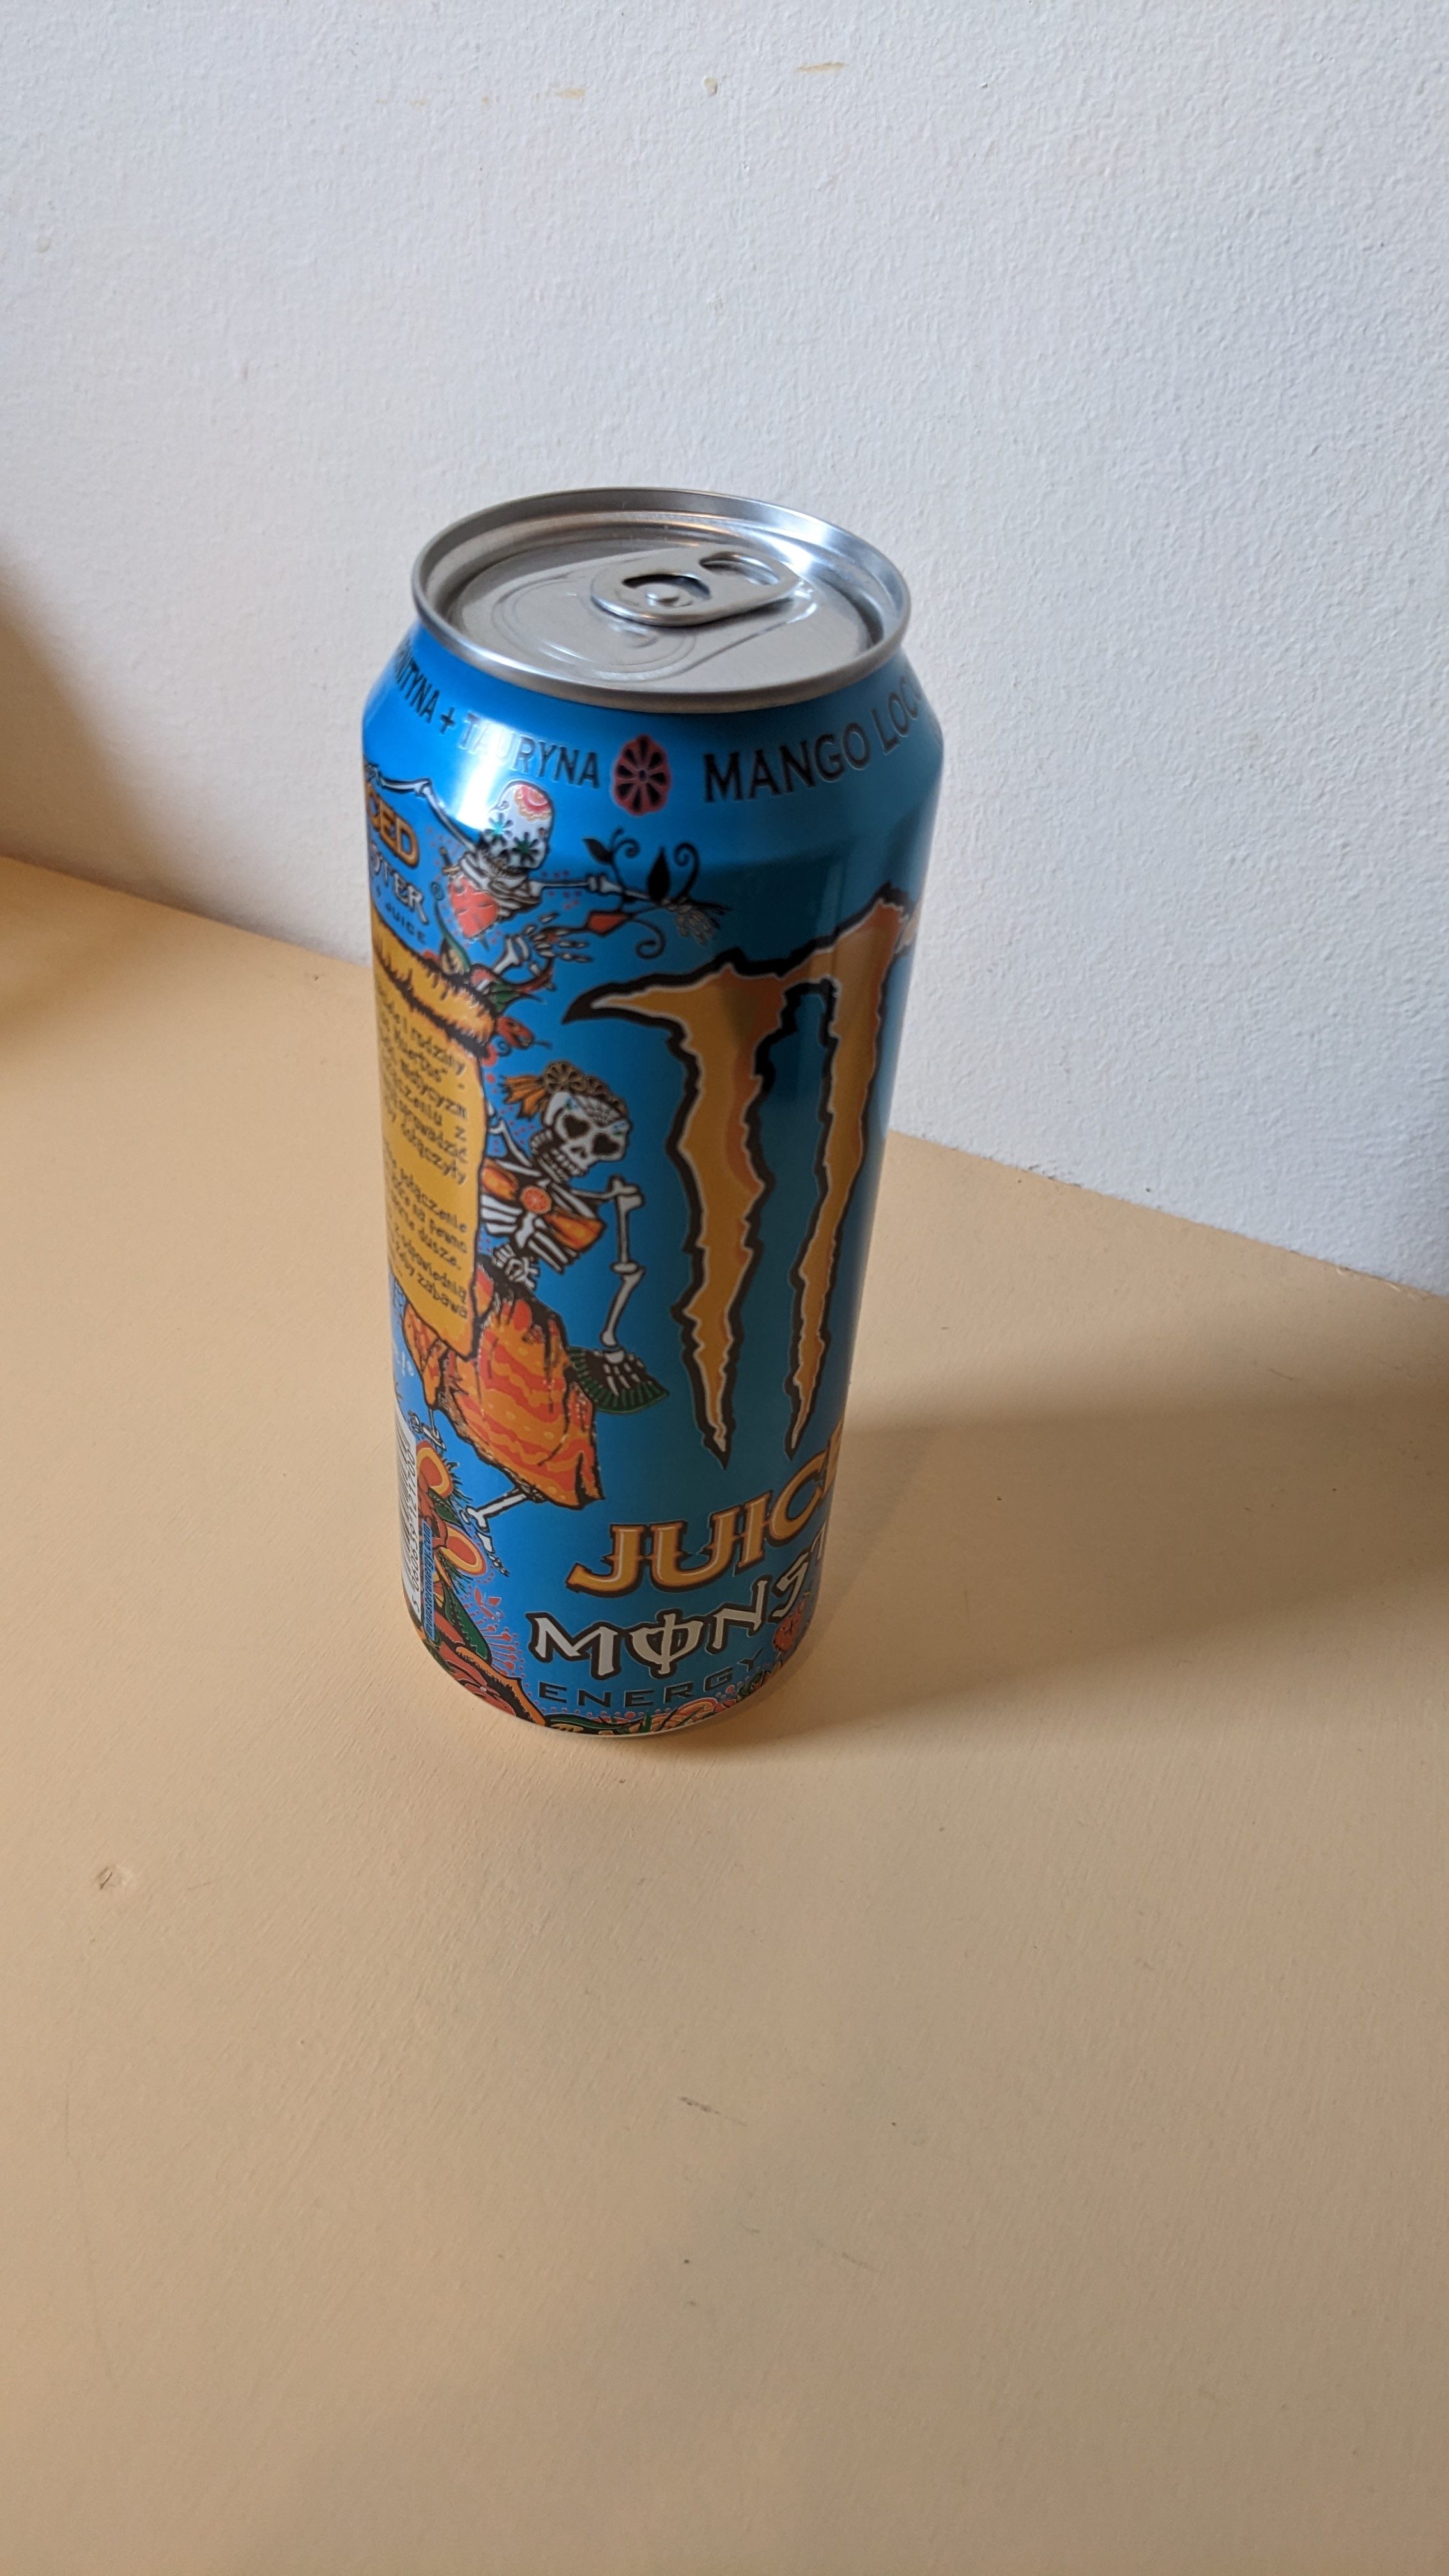monster: (338, 479, 927, 1787)
